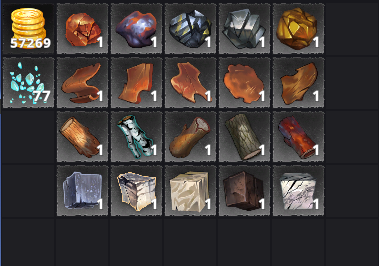ash log: (219, 110, 271, 162)
aurelium ore: (273, 3, 324, 53)
birch log: (111, 110, 162, 162)
copper ore: (57, 3, 107, 54)
durable hide: (273, 56, 324, 108)
ethereal dust: (2, 57, 54, 108)
flexible hide: (57, 57, 108, 107)
gold: (1, 1, 54, 53)
granite stone: (57, 165, 108, 216)
iron ore: (110, 3, 161, 53)
limestone stone: (112, 165, 163, 216)
marble stone: (273, 165, 324, 216)
oak log: (57, 110, 109, 162)
silver ore: (219, 3, 270, 54)
slate stone: (219, 165, 270, 216)
soft hide: (219, 57, 270, 108)
spruce log: (165, 110, 216, 162)
strong hide: (111, 57, 163, 109)
tin ore: (165, 3, 216, 54)
tough hide: (165, 57, 217, 108)
travertine stone: (166, 165, 217, 216)
yew log: (272, 110, 325, 162)
